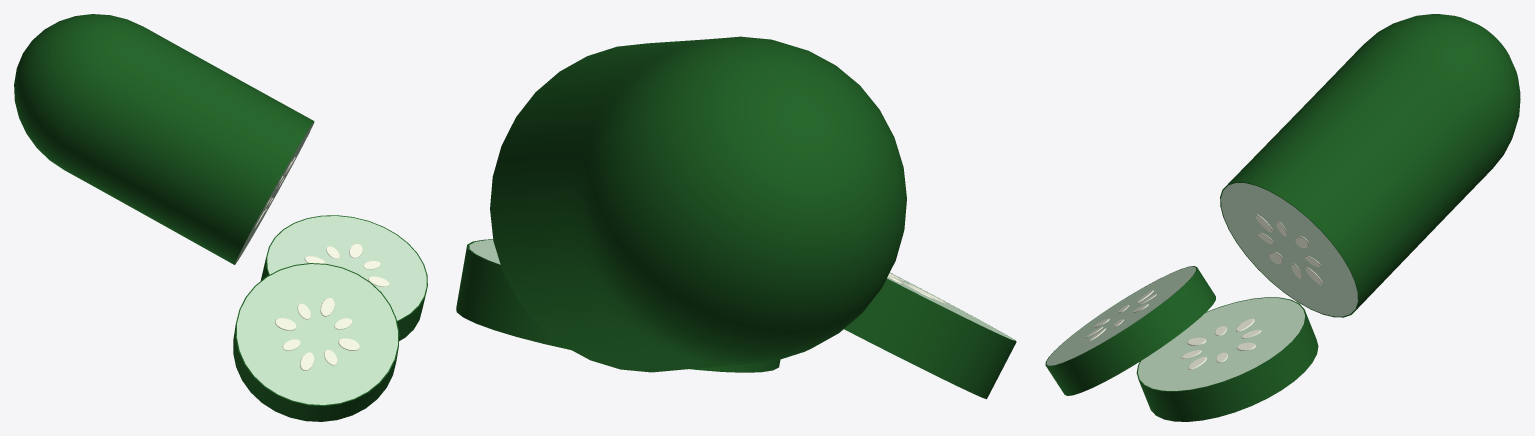
Rendered from cucumber.glb.
3 renders of one model, left to right at view 1: azimuth 30°, elevation 25°; view 2: azimuth 150°, elevation 25°; view 3: azimuth 270°, elevation 25°, orthographic. The views are drawn at different scales.
Parts seen in each view (by area): view 1: Sphere.483, Sphere.486, Sphere.485; view 2: Sphere.483, Sphere.486, Sphere.485; view 3: Sphere.483, Sphere.485, Sphere.486.
Boxes of the visible parts, left/top/right/bottom form: Sphere.483: left=14, top=14, right=314, bottom=264; Sphere.486: left=233, top=263, right=399, bottom=421; Sphere.485: left=260, top=215, right=427, bottom=340; Sphere.483: left=490, top=36, right=906, bottom=372; Sphere.486: left=844, top=272, right=1016, bottom=399; Sphere.485: left=456, top=239, right=780, bottom=372; Sphere.483: left=1220, top=14, right=1520, bottom=317; Sphere.485: left=1136, top=297, right=1318, bottom=421; Sphere.486: left=1045, top=266, right=1215, bottom=395.
Size of the model in its own units: 2.04 by 1.95 by 2.58.
1 material, 1 textured.
